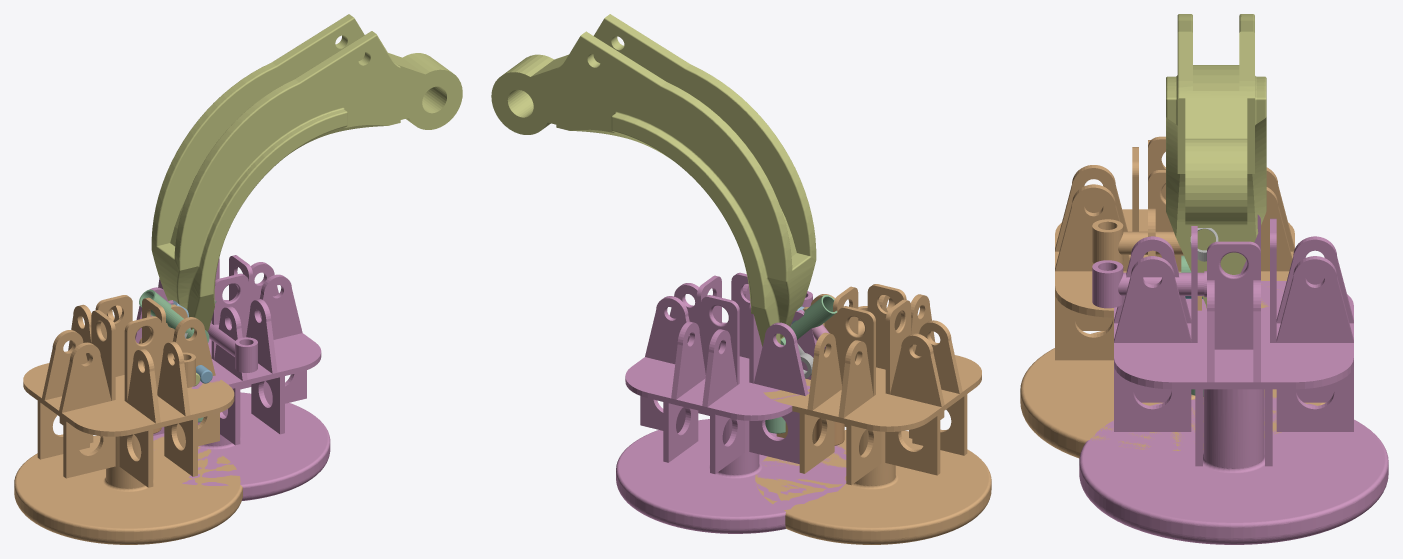
The model's file is case-03_gemini31.glb.
3 views of the same model, side by side, from view 1: azimuth 30°, elevation 25°; view 2: azimuth 150°, elevation 25°; view 3: azimuth 270°, elevation 25° (orthographic). The views are drawn at different scales.
Visible parts, largest first — view 1: c00003, c00001, c00002, c00012, c00004; view 2: c00003, c00002, c00001, c00004; view 3: c00002, c00003, c00001, c00012, c00013.
Part boxes in pixels (<box>): c00003: <box>14,295,242,544</box>; c00001: <box>151,14,462,331</box>; c00002: <box>135,255,330,500</box>; c00012: <box>207,320,257,372</box>; c00004: <box>139,289,209,342</box>; c00003: <box>755,284,991,544</box>; c00002: <box>616,272,846,533</box>; c00001: <box>491,14,816,346</box>; c00004: <box>780,295,837,345</box>; c00002: <box>1079,214,1388,544</box>; c00003: <box>1020,136,1325,458</box>; c00001: <box>1166,14,1266,308</box>; c00012: <box>1092,260,1206,308</box>; c00013: <box>1092,219,1183,263</box>.
Bounding box in the file's own units: 1761 × 1553 × 952.
